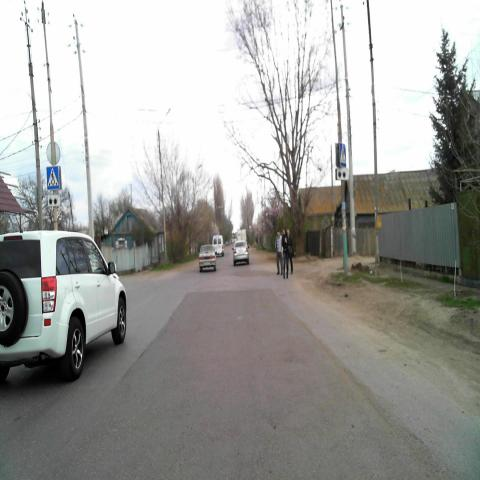8_15: (48, 194, 60, 206), (336, 168, 348, 179)
